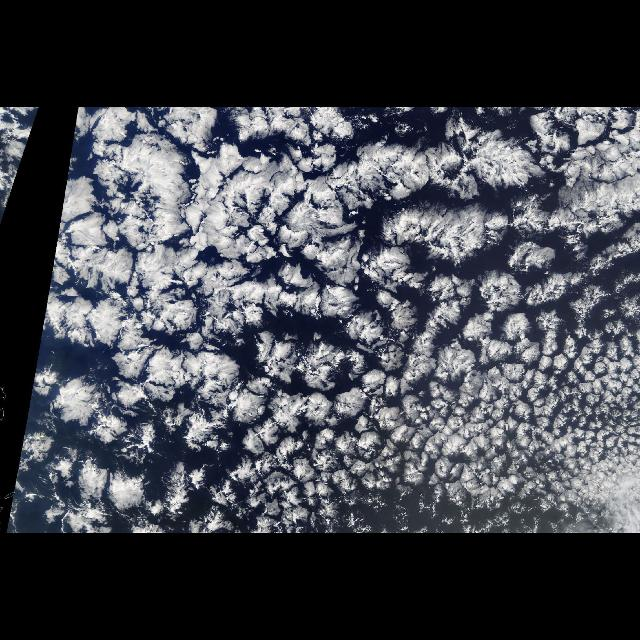Flower: (2, 107, 634, 533), (1, 108, 42, 228)
